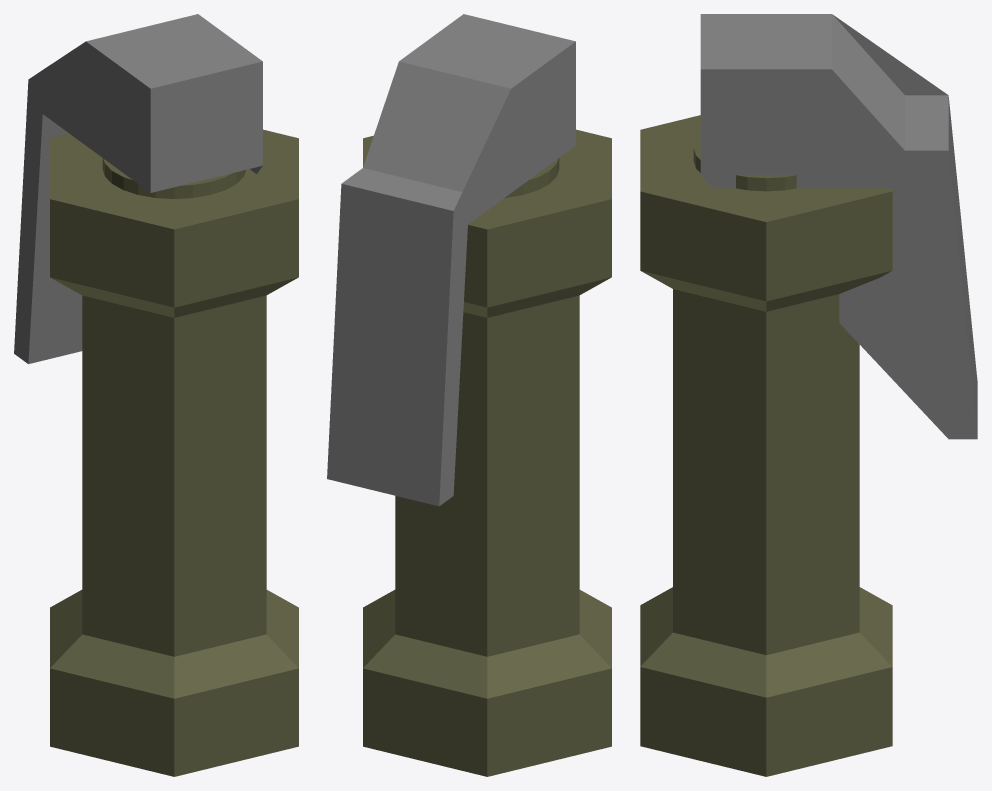
Rendered from grenadeflash.glb.
3 renders of one model, left to right at view 1: azimuth 30°, elevation 25°; view 2: azimuth 150°, elevation 25°; view 3: azimuth 270°, elevation 25°, orthographic.
Parts seen in each view (by area): view 1: Mesh1 Group2 Group1 Model, Mesh2 Group3 Group1 Model; view 2: Mesh1 Group2 Group1 Model, Mesh2 Group3 Group1 Model; view 3: Mesh1 Group2 Group1 Model, Mesh2 Group3 Group1 Model.
Part boxes in pixels (box(x1,y1,x2,y2)): Mesh1 Group2 Group1 Model: box(50, 129, 298, 776); Mesh2 Group3 Group1 Model: box(14, 14, 262, 363); Mesh1 Group2 Group1 Model: box(363, 129, 611, 776); Mesh2 Group3 Group1 Model: box(327, 14, 575, 506); Mesh1 Group2 Group1 Model: box(640, 115, 892, 776); Mesh2 Group3 Group1 Model: box(700, 14, 977, 439).
Size of the model in its own units: 0.012 by 0.0306 by 0.0139.
